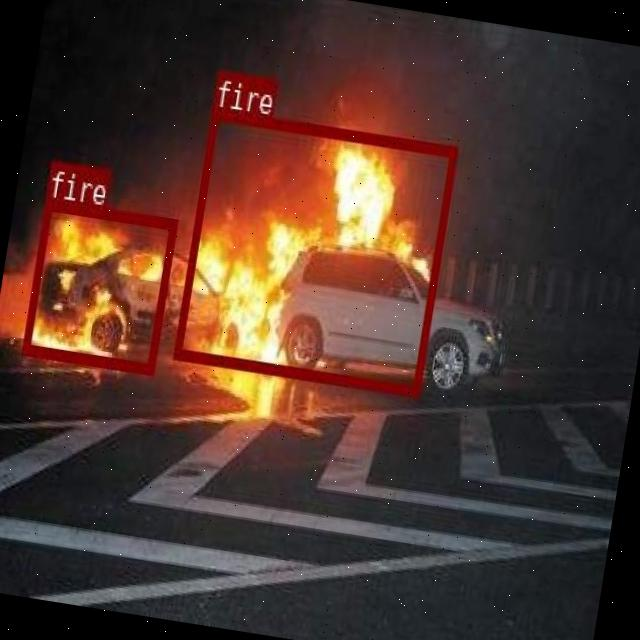fire: (172, 108, 457, 396), (21, 198, 178, 372)
